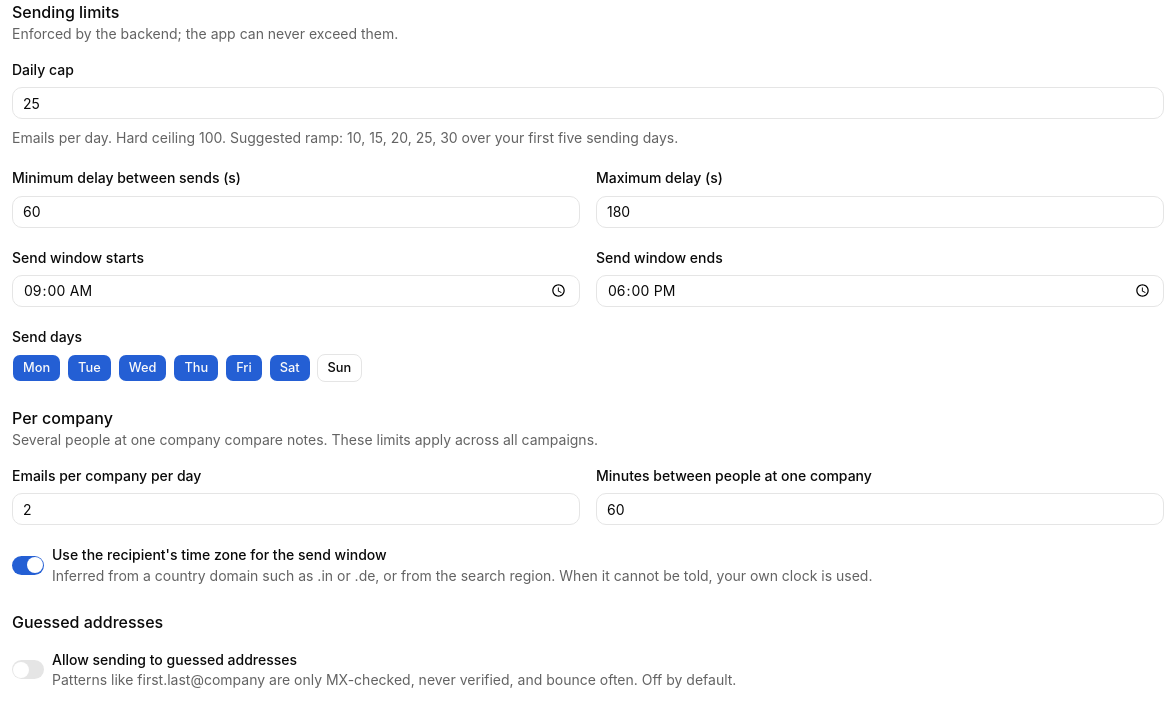
Test: SendingTab › blocks values above the hard ceiling with an inline error and no request
Replace the text in the number field labelled "Daily cap" with "500". click: (588, 103)
box: [12,87,1164,119]
(page scrolled)
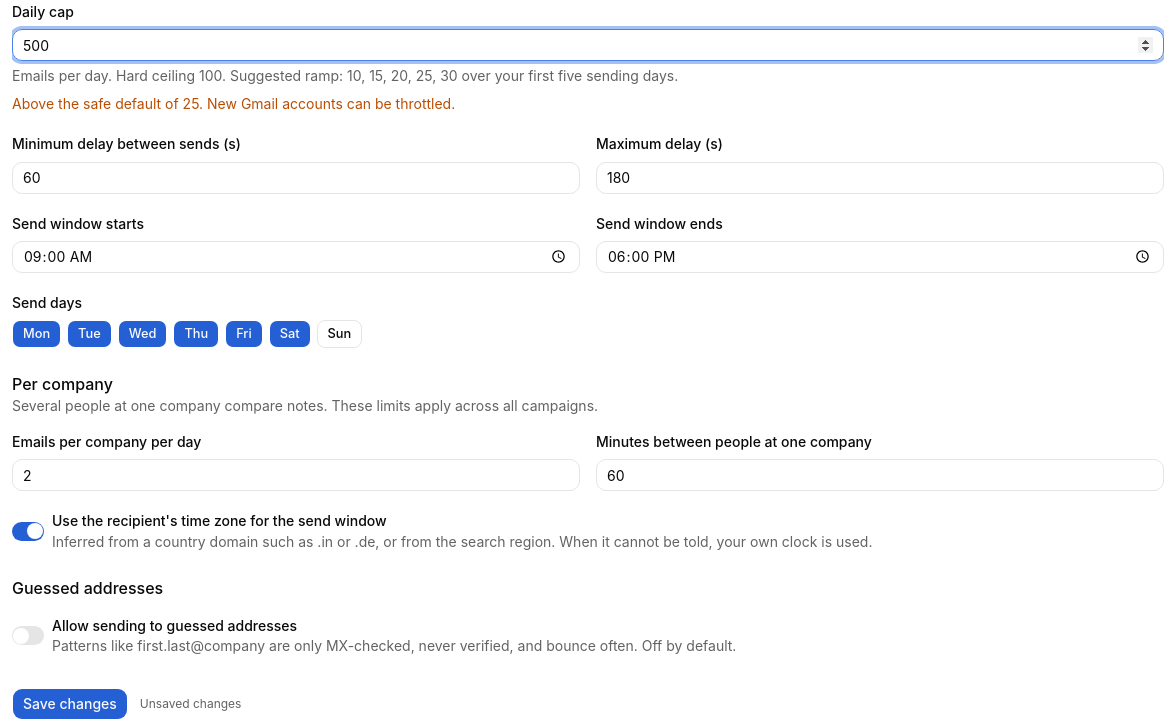
Click the button "Save changes". click: (70, 704)
box: [12,688,128,719]
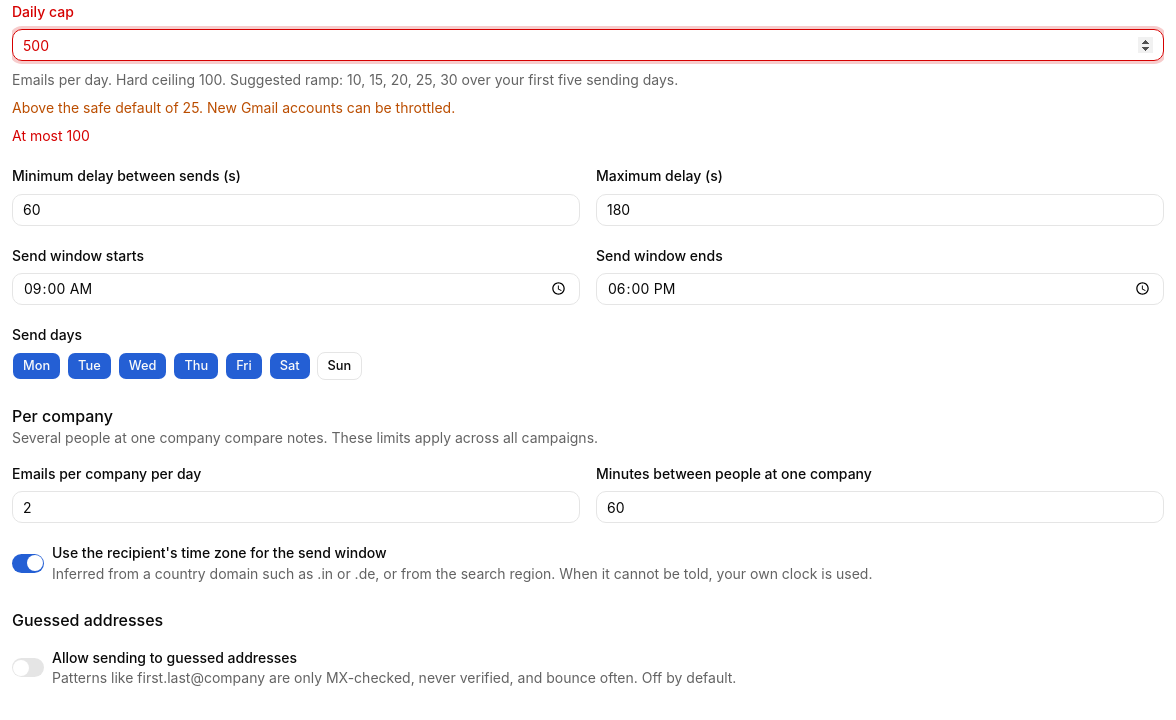
Result: the text "At most 100" is shown at [12,127,90,144]
